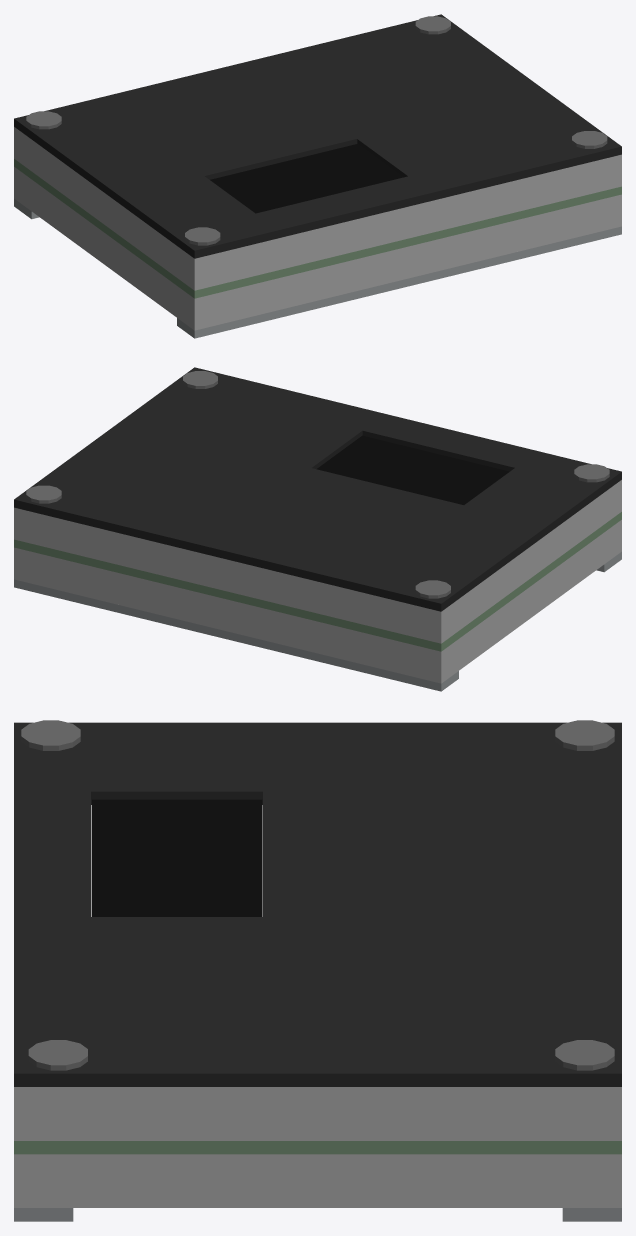
Rendered from main-body.gltf.
3 renders of one model, top to bottom at view 1: azimuth 30°, elevation 25°; view 2: azimuth 150°, elevation 25°; view 3: azimuth 270°, elevation 25°, orthographic. The views are drawn at different scales.
Parts seen in each view (by area): view 1: mesh (×9), cylinder (×4); view 2: mesh (×9), cylinder (×4); view 3: mesh (×10), cylinder (×4).
Boxes of the visible parts, bbox=[...] form: mesh (×9): bbox=[14, 14, 621, 338]; cylinder (×4): bbox=[26, 16, 607, 245]; mesh (×9): bbox=[14, 367, 621, 691]; cylinder (×4): bbox=[26, 371, 609, 598]; mesh (×10): bbox=[14, 722, 621, 1221]; cylinder (×4): bbox=[21, 720, 614, 1070].
Size of the model in its own units: 3.5 by 0.7125 by 2.56.
1 material, 1 textured.
